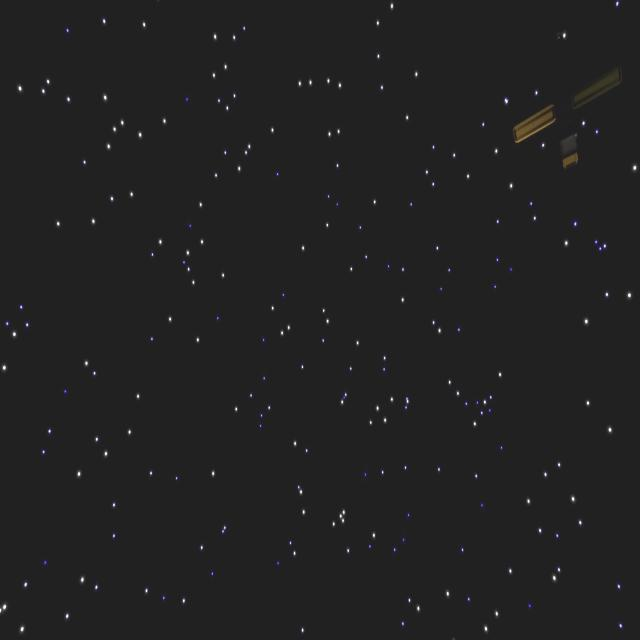medium_debris: (510, 63, 630, 178)
